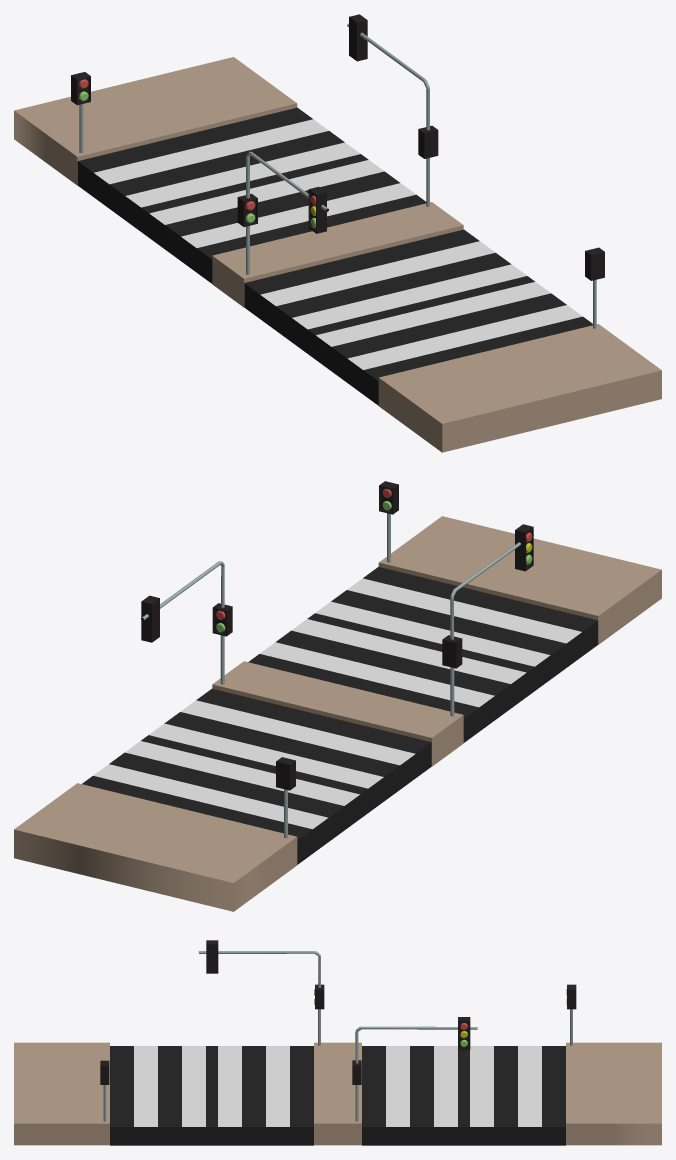
File: road_avenue_crossing.fbx
3 renders of one model, top to bottom at view 1: azimuth 30°, elevation 25°; view 2: azimuth 150°, elevation 25°; view 3: azimuth 270°, elevation 25°, orthographic. The views are drawn at different scales.
Parts seen in each view (by area): view 1: Cube.003, Cube.002; view 2: Cube.003, Cube.002; view 3: Cube.003, Cube.002.
Boxes of the visible parts, <box> form: Cube.003: <box>14,57,661,452</box>; Cube.002: <box>71,14,604,328</box>; Cube.003: <box>14,516,661,911</box>; Cube.002: <box>141,481,533,838</box>; Cube.003: <box>14,1042,661,1145</box>; Cube.002: <box>100,940,576,1121</box>.
Bounding box in the file's own units: 1602 × 1143 × 5400.
